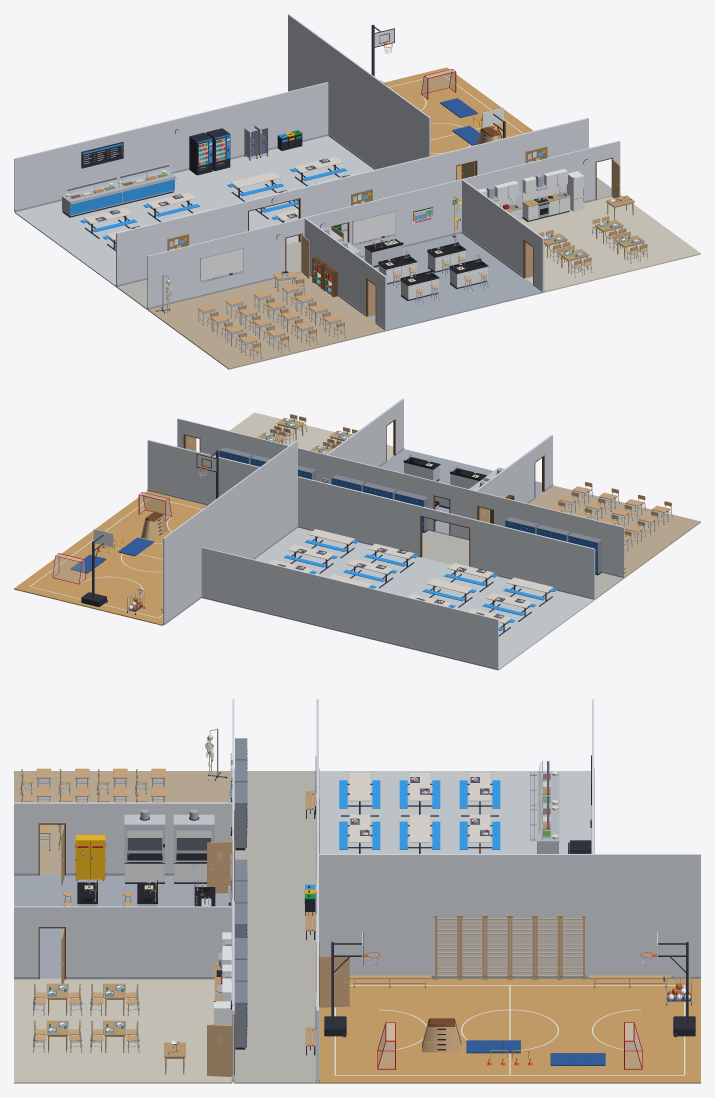
The model's file is sch-001.glb.
The picture shows the model from 3 angles, top to bottom: view 1: azimuth 30°, elevation 25°; view 2: azimuth 150°, elevation 25°; view 3: azimuth 270°, elevation 25°; orthographic projection. The views are drawn at different scales.
Parts seen in each view (by area): view 1: wall, cafeteria_floor, floor, kitchen_floor, white, steel, lab_floor, beech, gym_floor, plastic_dark, plastic_blue, dark_steel (+12 smaller); view 2: wall, cafeteria_floor, gym_floor, floor, laminate, beech, corridor_floor, locker_blue, kitchen_floor, locker_grey, plastic_blue, skirting (+14 smaller); view 3: wall, gym_floor, corridor_floor, kitchen_floor, beech, cafeteria_floor, floor, lab_floor, steel, locker_grey, white, laminate (+15 smaller).
Boxes of the visible parts, box(x1,y1,x2,y2) form: wall: box(14, 14, 620, 330); cafeteria_floor: box(15, 136, 374, 286); floor: box(148, 272, 386, 369); kitchen_floor: box(521, 194, 700, 292); white: box(84, 28, 589, 299); steel: box(70, 123, 648, 359); lab_floor: box(361, 233, 543, 331); beech: box(197, 130, 647, 350); gym_floor: box(384, 67, 532, 180); plastic_dark: box(62, 28, 644, 358); plastic_blue: box(70, 133, 544, 291); dark_steel: box(67, 24, 569, 312); wall: box(147, 398, 624, 669); cafeteria_floor: box(203, 527, 594, 670); gym_floor: box(14, 491, 206, 625); floor: box(529, 485, 700, 578); laminate: box(269, 529, 553, 623); beech: box(141, 414, 671, 612); corridor_floor: box(421, 530, 623, 600); locker_blue: box(219, 451, 597, 573); kitchen_floor: box(230, 412, 393, 460); locker_grey: box(219, 447, 601, 573); plastic_blue: box(284, 540, 556, 631); skirting: box(147, 447, 623, 669); wall: box(14, 699, 700, 1082); gym_floor: box(319, 978, 700, 1083); corridor_floor: box(234, 771, 318, 1083); kitchen_floor: box(14, 978, 232, 1083); beech: box(22, 768, 670, 1076); cafeteria_floor: box(319, 771, 591, 853); floor: box(14, 771, 230, 874); lab_floor: box(14, 874, 231, 978); steel: box(20, 728, 691, 1052); locker_grey: box(235, 738, 247, 1047); white: box(78, 805, 690, 1062); laminate: box(349, 773, 490, 842).
Bounding box in the file's own units: 27 × 5.06 × 25.18.
